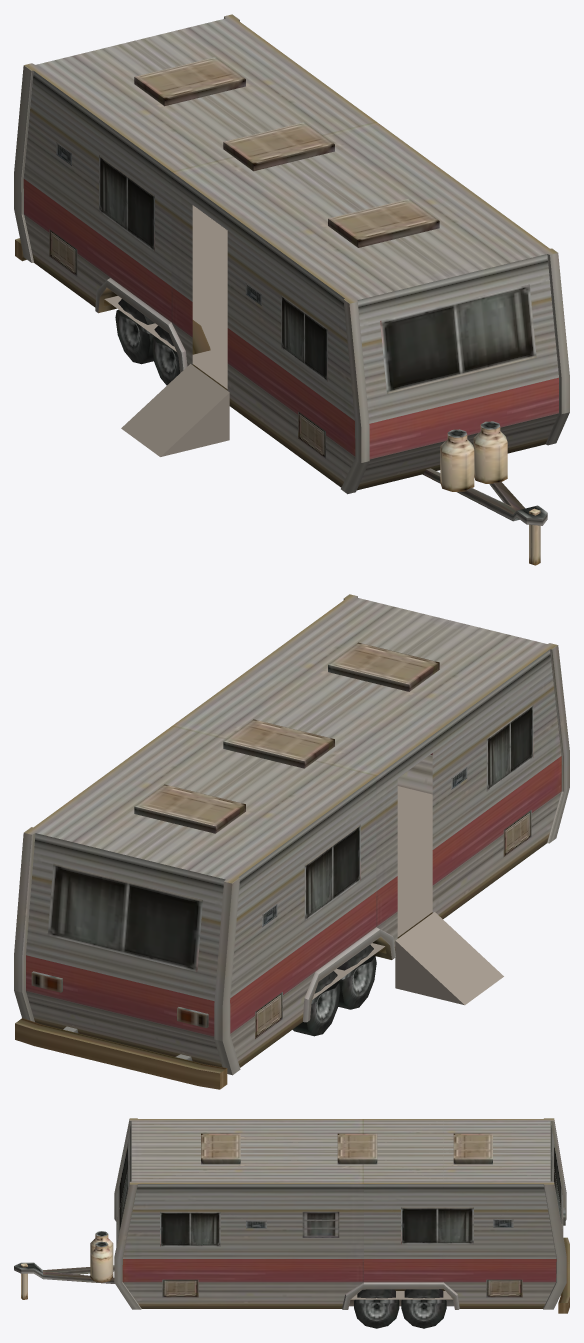
Rendered from rural-trailer.access-v3.lod1.glb.
3 views of the same model, one above another, from view 1: azimuth 30°, elevation 25°; view 2: azimuth 150°, elevation 25°; view 3: azimuth 270°, elevation 25° (orthographic). The views are drawn at different scales.
Parts seen in each view (by area): view 1: Rural_TrailerH_1_Rural_Trailer_Stuff_1_0, Walkable floors and stairs; view 2: Rural_TrailerH_1_Rural_Trailer_Stuff_1_0, Walkable floors and stairs; view 3: Rural_TrailerH_1_Rural_Trailer_Stuff_1_0, Walkable floors and stairs.
Part boxes in pixels (x1=…): Rural_TrailerH_1_Rural_Trailer_Stuff_1_0: x1=14, y1=14, x2=569, y2=565; Walkable floors and stairs: x1=104, y1=205, x2=229, y2=456; Rural_TrailerH_1_Rural_Trailer_Stuff_1_0: x1=14, y1=594, x2=569, y2=1089; Walkable floors and stairs: x1=312, y1=786, x2=503, y2=1005; Rural_TrailerH_1_Rural_Trailer_Stuff_1_0: x1=14, y1=1118, x2=569, y2=1328; Walkable floors and stairs: x1=351, y1=1291, x2=452, y2=1299.
Size of the model in its own units: 3.72 by 2.98 by 9.88.
Materials: 2 (1 with a texture image).
